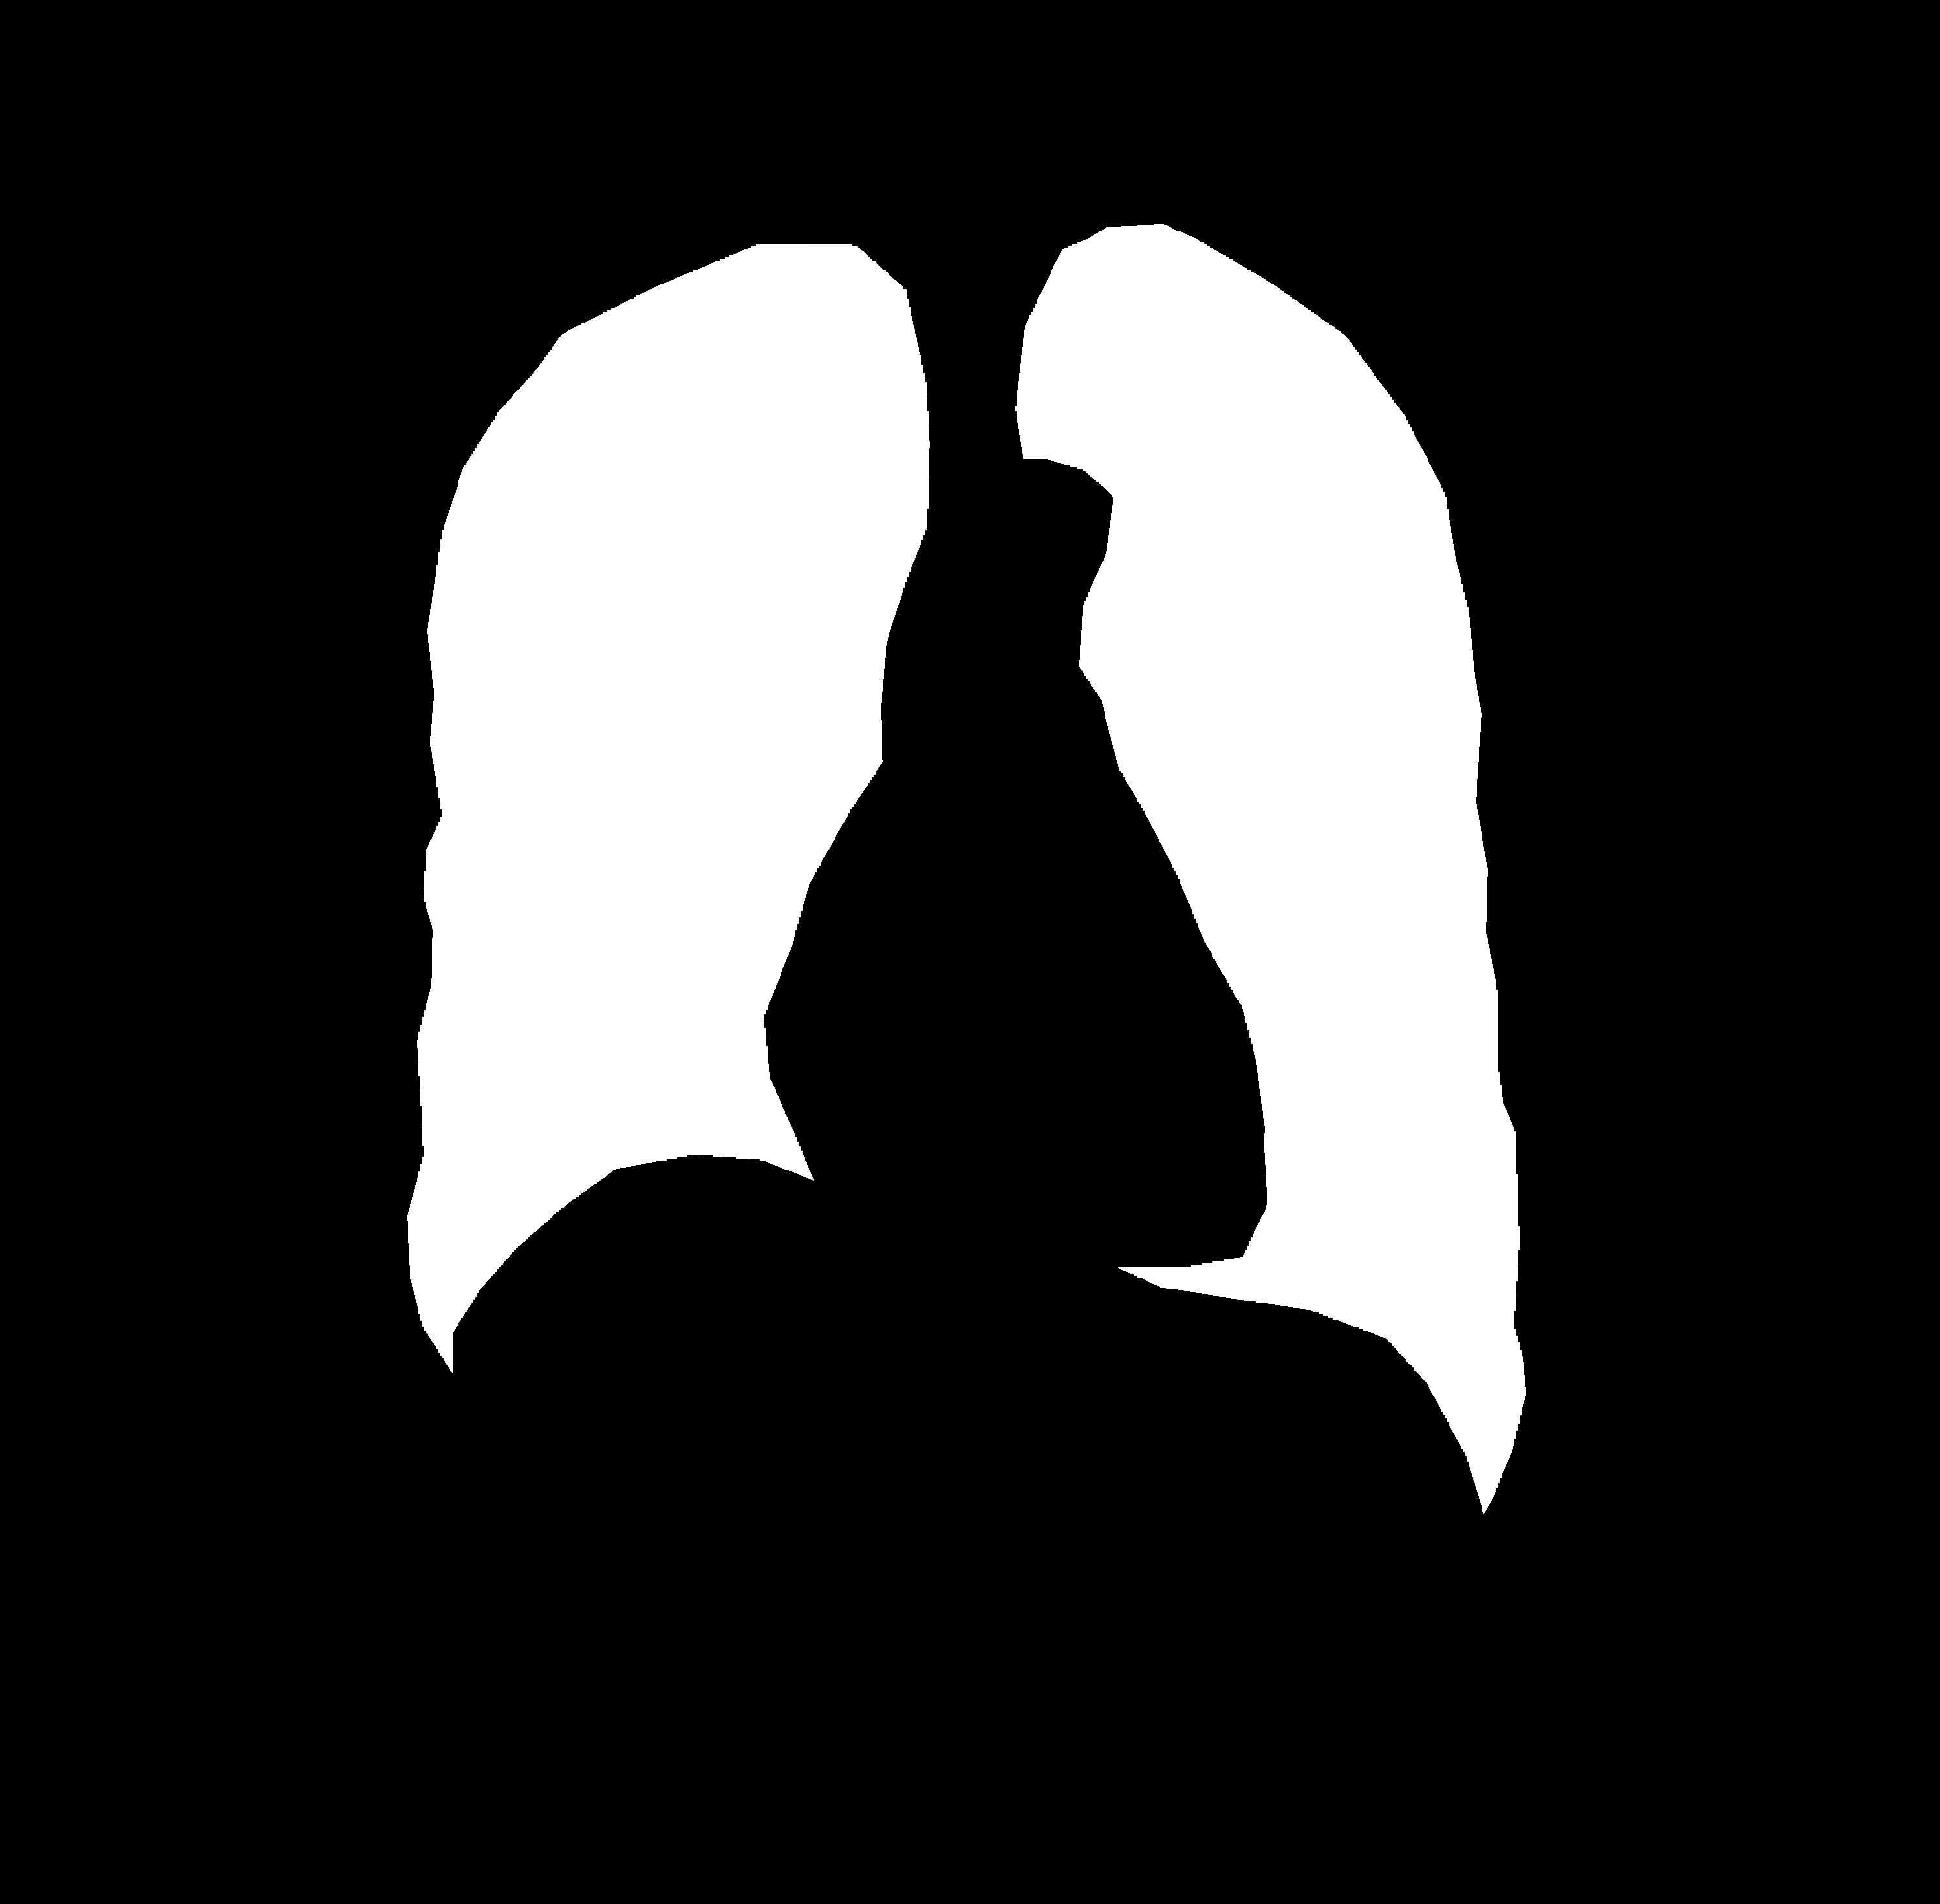heart: (762, 921, 1268, 1332)
left_lung: (408, 244, 930, 1372)
right_lung: (1015, 225, 1525, 1513)
